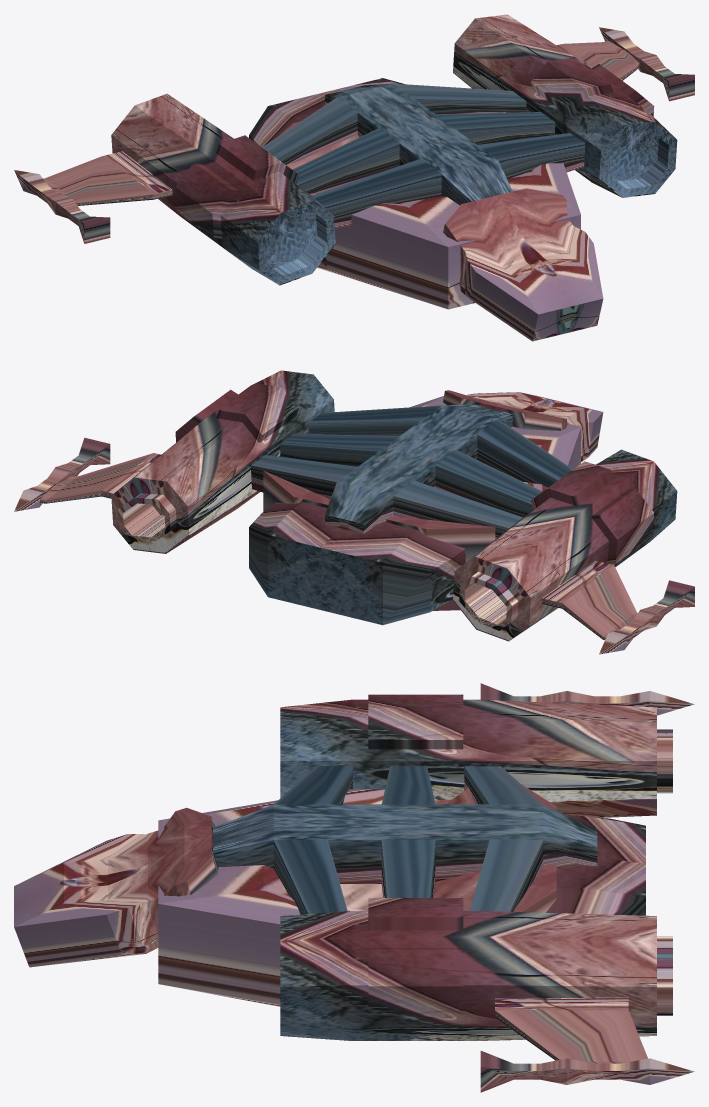
Rendered from destroyer.glb.
3 views of the same model, one above another, from view 1: azimuth 30°, elevation 25°; view 2: azimuth 150°, elevation 25°; view 3: azimuth 270°, elevation 25° (orthographic). The views are drawn at different scales.
Visible parts, largest first — view 1: destroyer; view 2: destroyer; view 3: destroyer.
Part boxes in pixels (bbox=[...]): destroyer: bbox=[14, 14, 694, 341]; destroyer: bbox=[14, 370, 694, 654]; destroyer: bbox=[14, 683, 694, 1092].
Bounding box in the file's own units: 69.31 × 12.71 × 52.
1 material, 1 textured.
